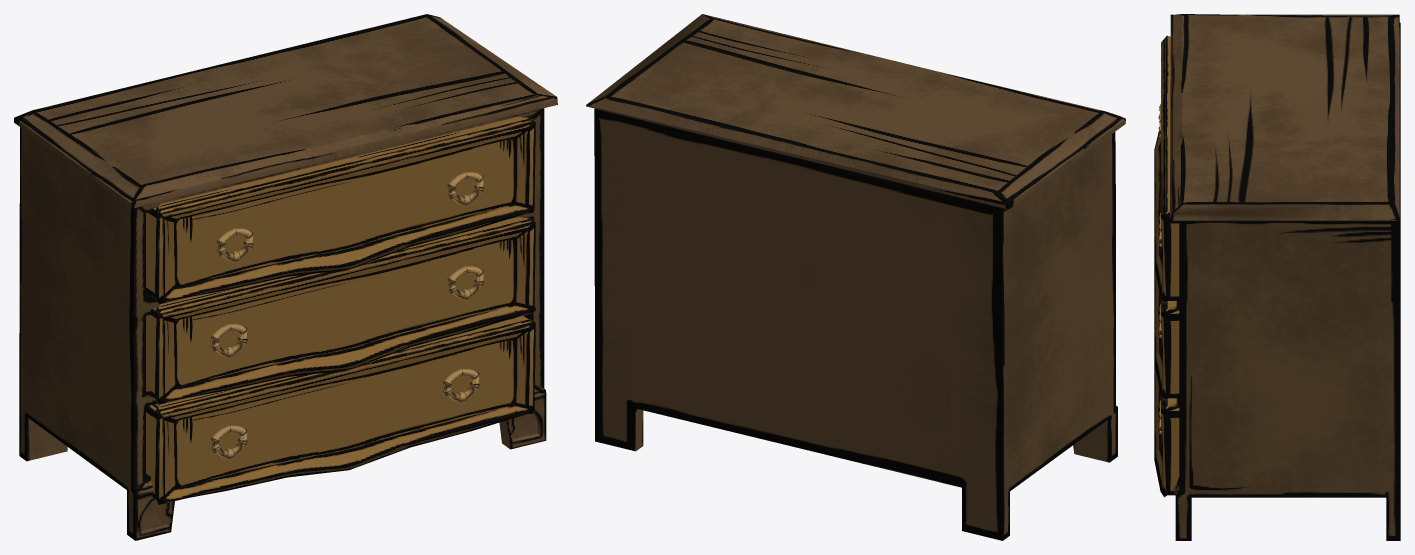
Rendered from _Wardrobe_1.fbx.
The picture shows the model from 3 angles, left to right: view 1: azimuth 30°, elevation 25°; view 2: azimuth 150°, elevation 25°; view 3: azimuth 270°, elevation 25°; orthographic projection. The views are drawn at different scales.
Visible parts, largest first — view 1: Tabla, Cajonera3C, cajon_1, cajon_002, cajon_003, Agarre_005, Agarre_004, Agarre_003, Agarre_007, Agarre_006, Agarre_008; view 2: Cajonera3C, Tabla; view 3: Cajonera3C, Tabla, cajon_1, cajon_002, cajon_003.
Part boxes in pixels (x1,y1,x2,y2): Tabla: (14, 14, 557, 208); Cajonera3C: (19, 108, 546, 540); cajon_1: (146, 116, 535, 304); cajon_002: (146, 217, 535, 404); cajon_003: (146, 315, 535, 504); Agarre_005: (447, 266, 484, 300); Agarre_004: (447, 172, 484, 206); Agarre_003: (217, 228, 253, 262); Agarre_007: (211, 425, 247, 459); Agarre_006: (211, 324, 247, 358); Agarre_008: (443, 369, 479, 403); Cajonera3C: (594, 108, 1117, 540); Tabla: (586, 14, 1125, 209); Cajonera3C: (1173, 22, 1400, 540); Tabla: (1170, 14, 1399, 220); cajon_1: (1154, 35, 1179, 302); cajon_002: (1154, 267, 1179, 399); cajon_003: (1154, 364, 1179, 497).
Bounding box in the file's own units: 140 × 72.29 × 109.
